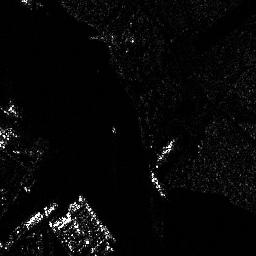ship: (78, 194, 113, 242), (25, 201, 59, 230), (149, 170, 168, 197), (156, 137, 176, 160)
